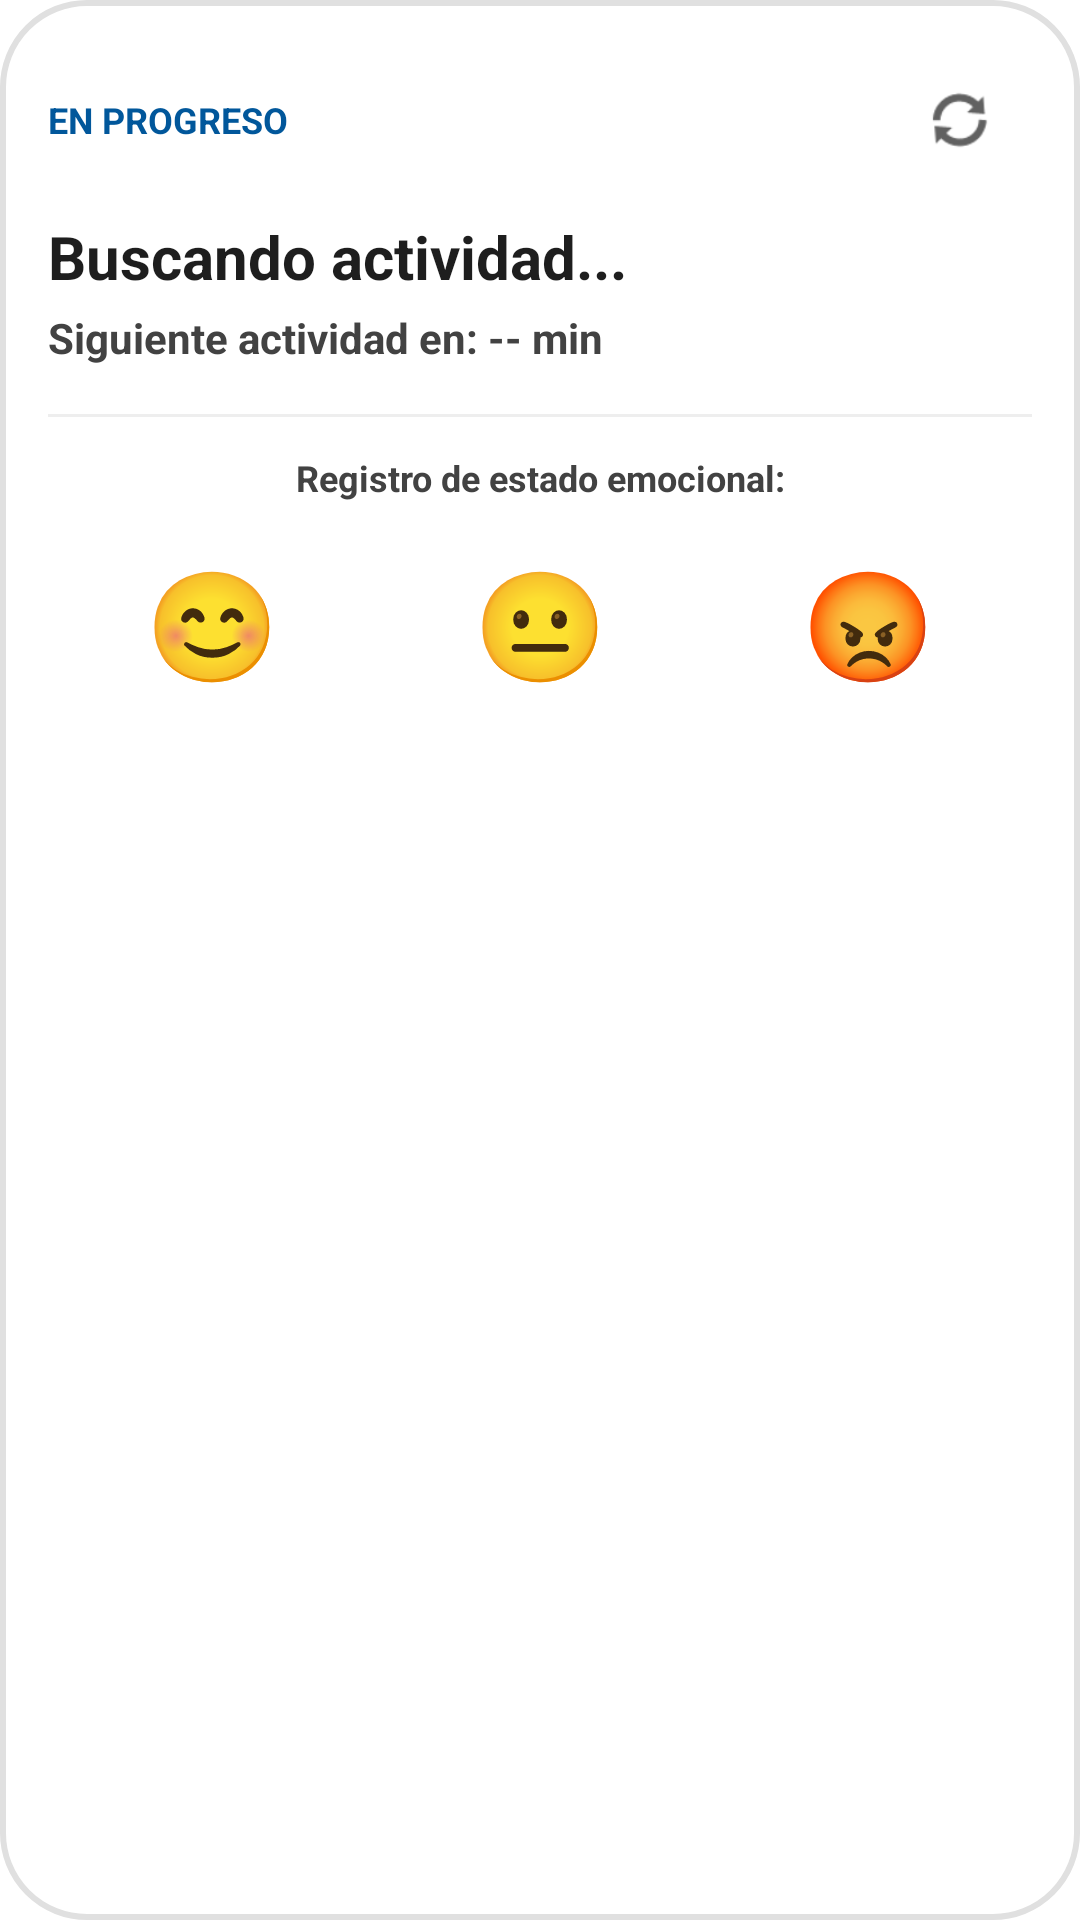

Where to tap for icons on this 1080px x 1920px app screen, as (x=x, y=y):
Refrescar: (x=960, y=120)
